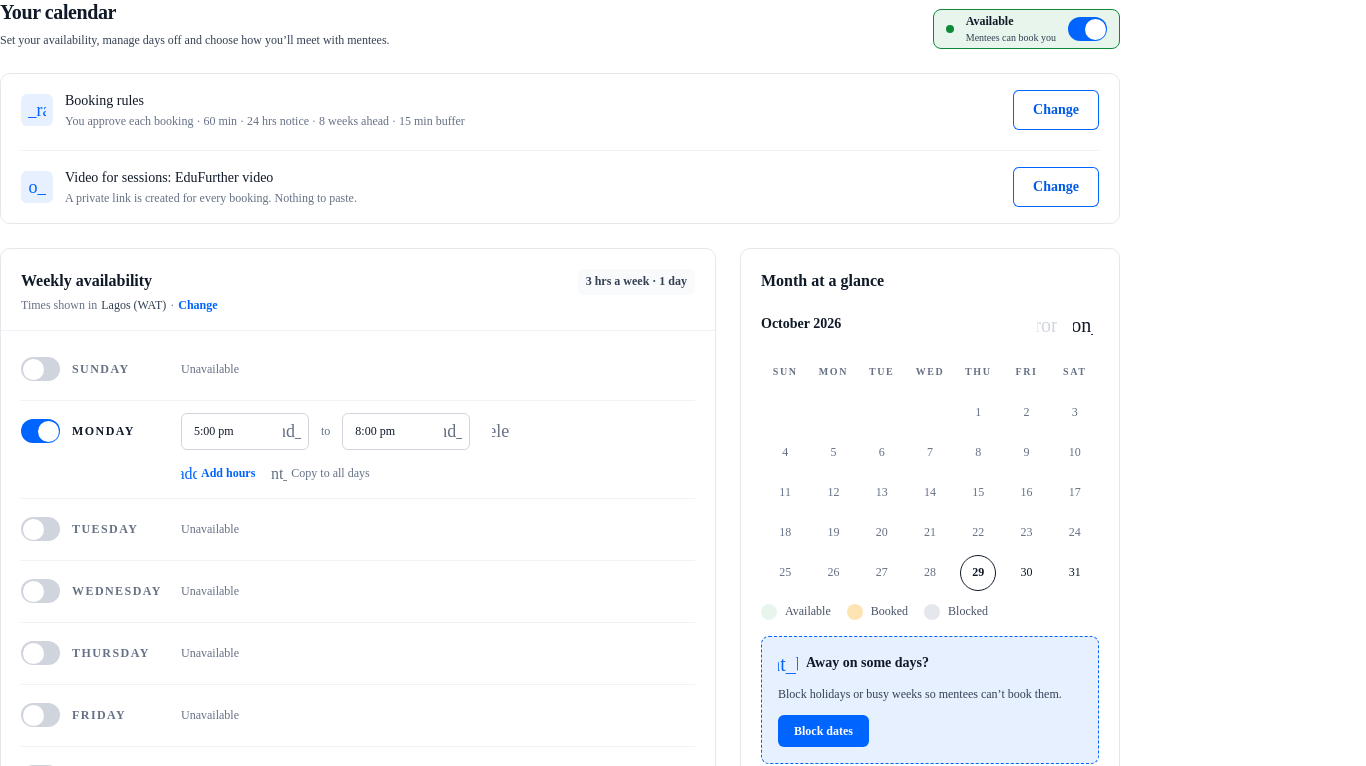
Test case: CalendarScreen: busy and video › a failed pause keeps the modal open and says why
Click the switch named "Available for new bookings" at [1088, 29], box [1068,17,1107,41]
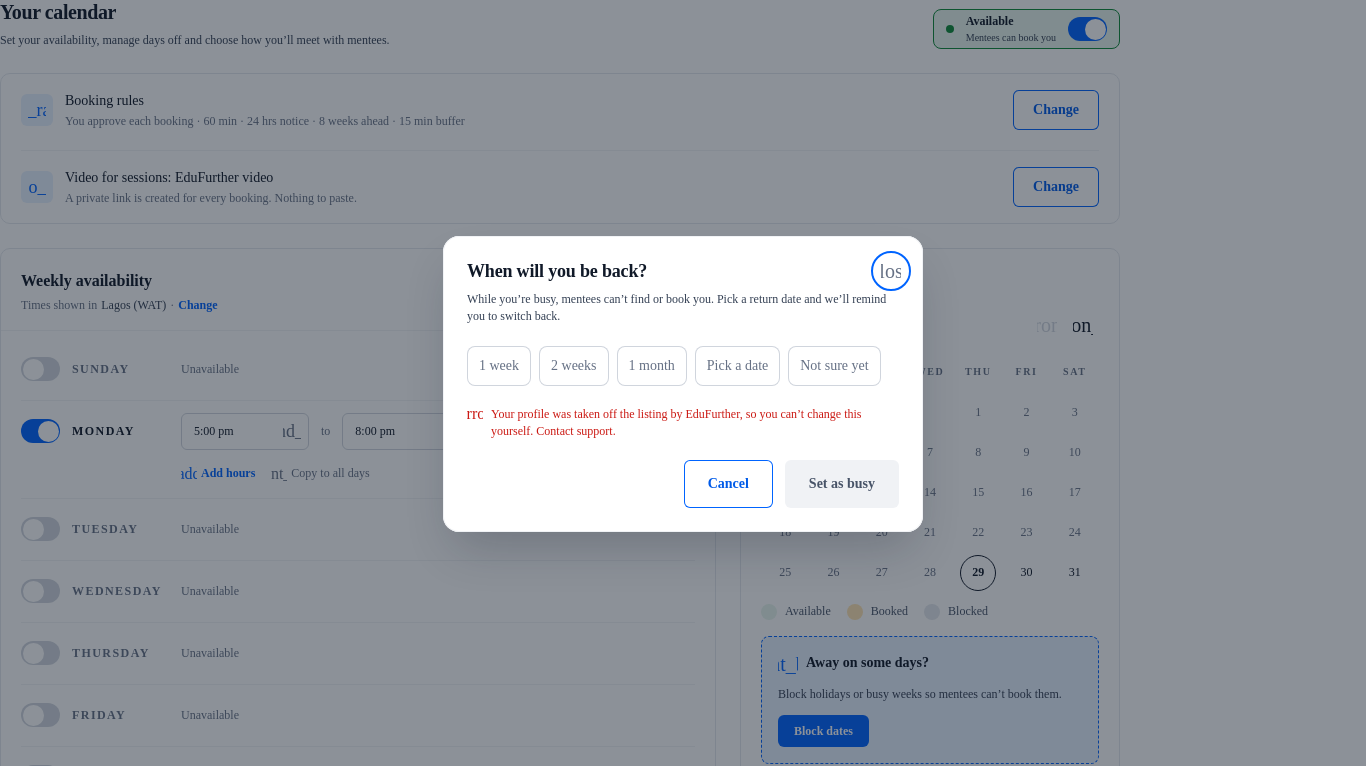
Expected: the text "taken off the listing by EduFurther" is shown, [491,407,862,438]
